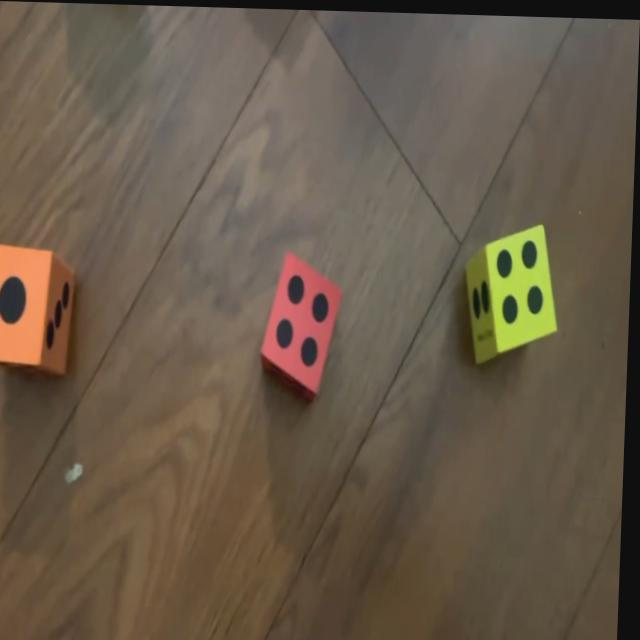red_block: (264, 245, 344, 398)
